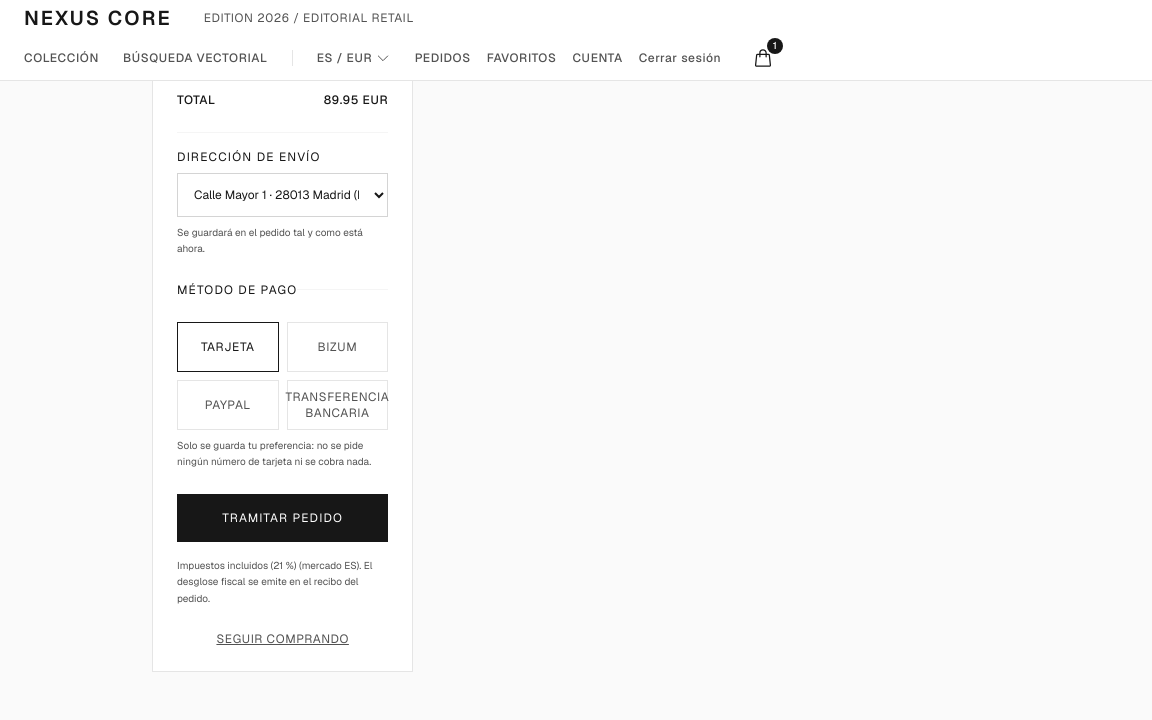
Test: CartPage — guard de sesión y errores amigables (specs/checkout-auth) › un fallo de red no filtra el mensaje técnico de fetch
The width and height of the screenshot is (1152, 720).
(page scrolled)
Check: the dropdown labelled "Dirección de envío" shows "Calle Mayor 1 · 28013 Madrid (ES)", box [177,173,388,217]
Click the button "Tramitar pedido" at (283, 518), box [177,494,388,542]
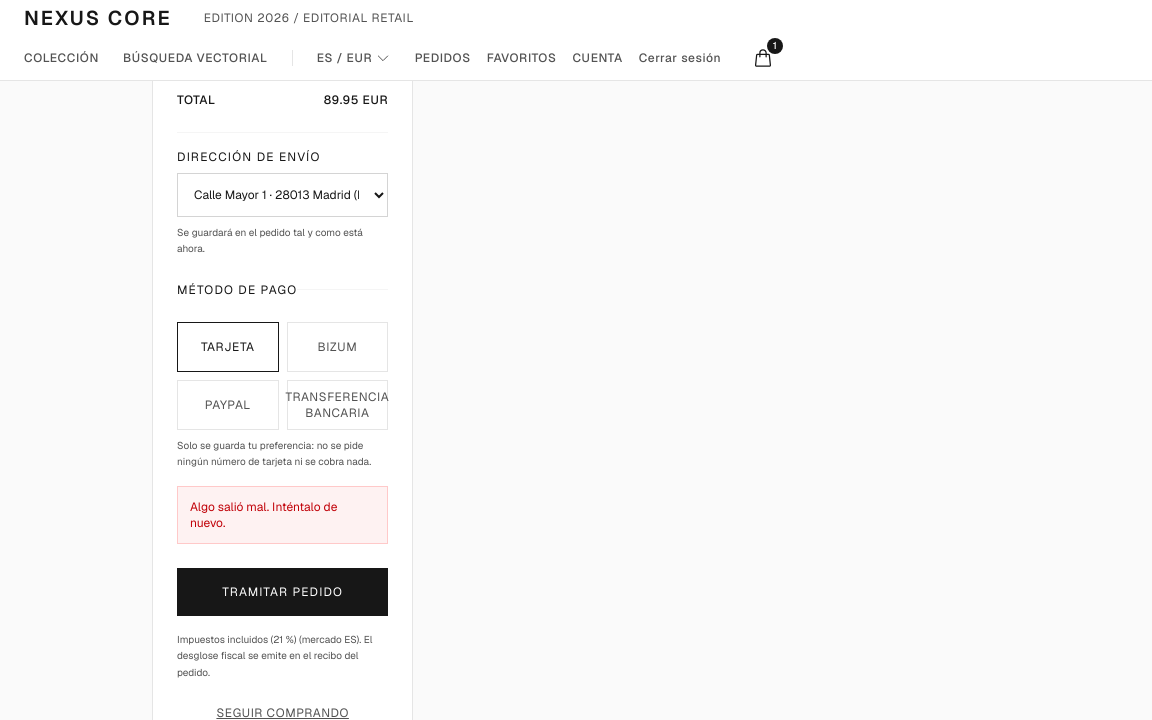
Check: the text "Algo salió mal. Inténtalo de nuevo." is shown, box [177,486,388,544]
